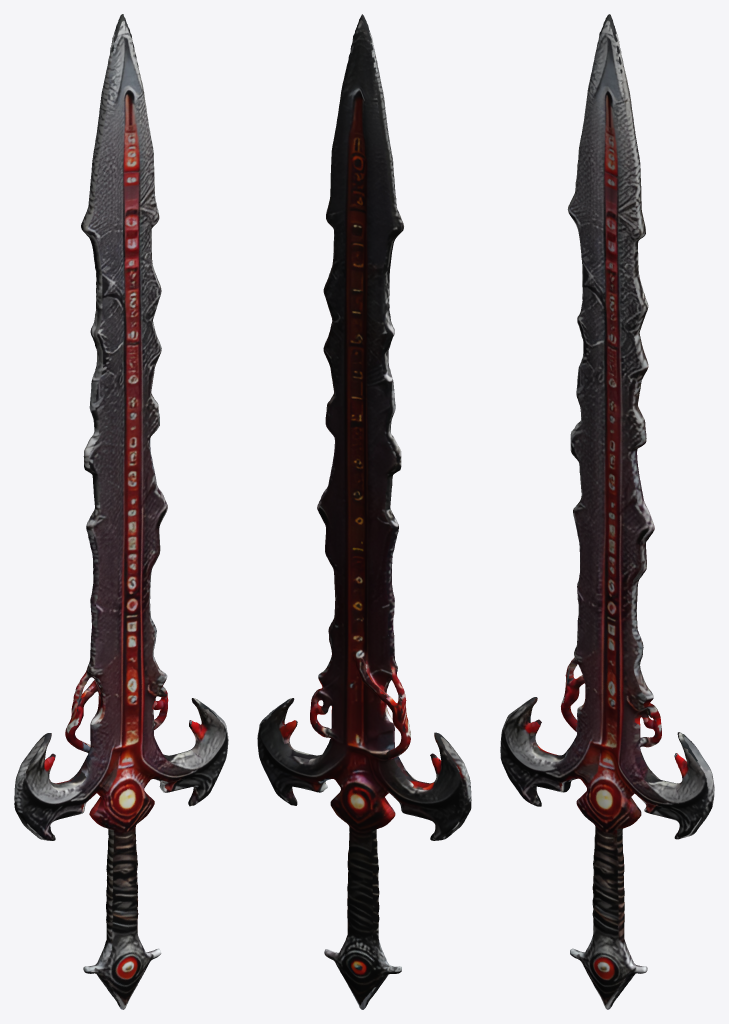
File: TripoSG.glb
3 views of the same model, side by side, from view 1: azimuth 30°, elevation 25°; view 2: azimuth 150°, elevation 25°; view 3: azimuth 330°, elevation 25° (orthographic).
Parts seen in each view (by area): view 1: geometry_0; view 2: geometry_0; view 3: geometry_0.
Boxes of the visible parts, x1,y1,x2,y2 form: geometry_0: (14,14,228,1009); geometry_0: (257,14,471,1009); geometry_0: (500,14,714,1009).
Size of the model in its own units: 0.4188 by 1.87 by 0.0486.
Materials: 1 (1 with a texture image).
